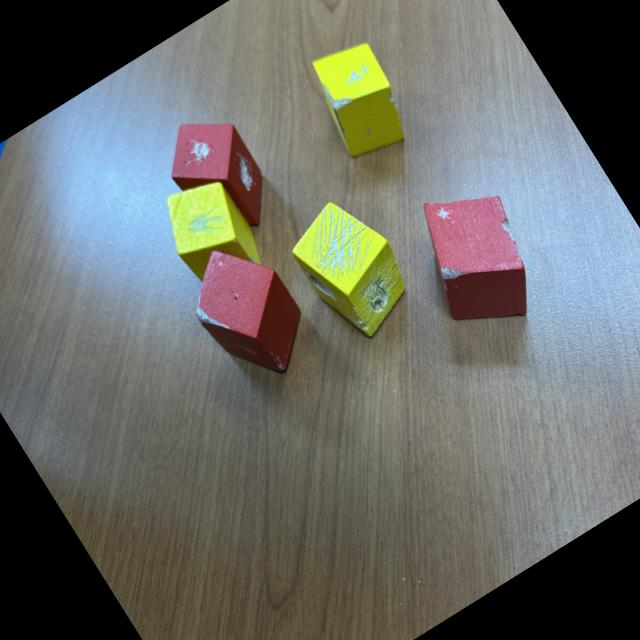broken: (392, 166, 560, 349), (170, 226, 325, 396), (278, 185, 427, 350), (150, 100, 286, 250), (296, 31, 422, 169), (148, 166, 272, 300)
